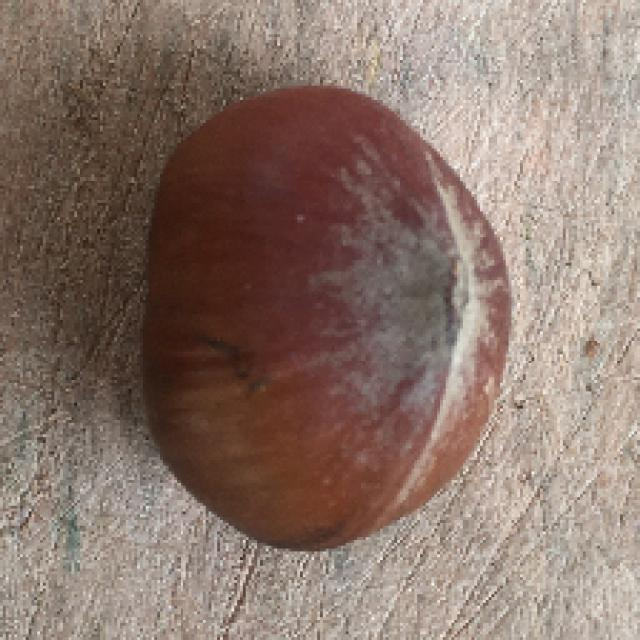qualityHazelnut: (147, 86, 509, 559)
